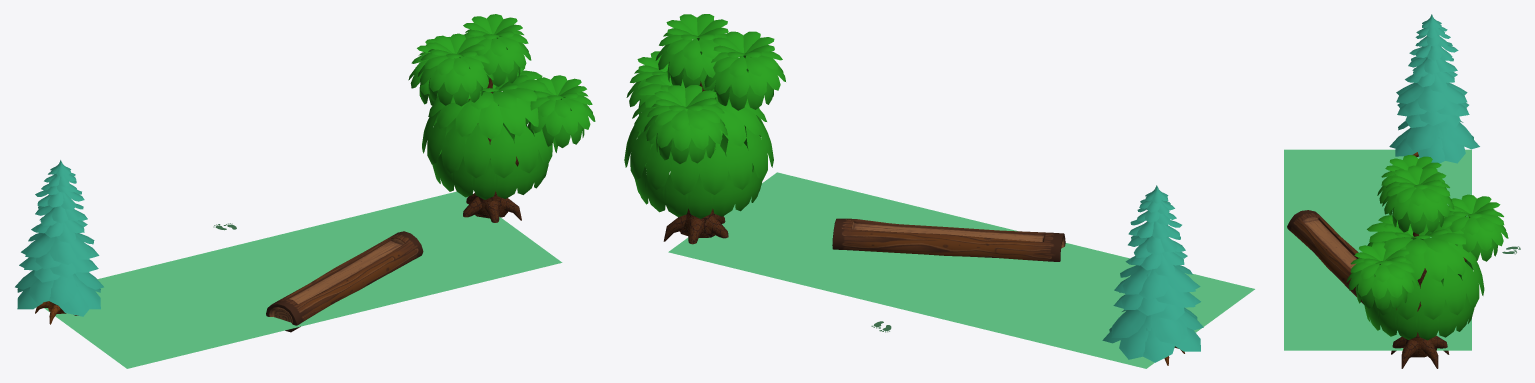
3 renders of one model, left to right at view 1: azimuth 30°, elevation 25°; view 2: azimuth 150°, elevation 25°; view 3: azimuth 270°, elevation 25°, orthographic. The views are drawn at different scales.
Visible parts, largest first — view 1: Ground_1, TreeOak, TreeSpruce__5_, Log_Lift; view 2: Ground_1, TreeOak, TreeSpruce__5_, Log_Lift; view 3: TreeOak, Ground_1, TreeSpruce__5_, Log_Lift.
Part boxes in pixels (x1,y1,x2,y2): Ground_1: (44, 191, 562, 368); TreeOak: (408, 14, 595, 222); TreeSpruce__5_: (15, 160, 103, 324); Log_Lift: (266, 231, 423, 332); Ground_1: (668, 172, 1254, 368); TreeOak: (624, 14, 785, 244); TreeSpruce__5_: (1102, 185, 1203, 365); Log_Lift: (832, 218, 1065, 261); TreeOak: (1346, 155, 1508, 368); Ground_1: (1284, 149, 1471, 350); TreeSpruce__5_: (1389, 14, 1479, 163); Log_Lift: (1287, 210, 1363, 303).
Size of the model in its own units: 5.59 by 1.9 by 2.22.
7 materials, 3 textured.
